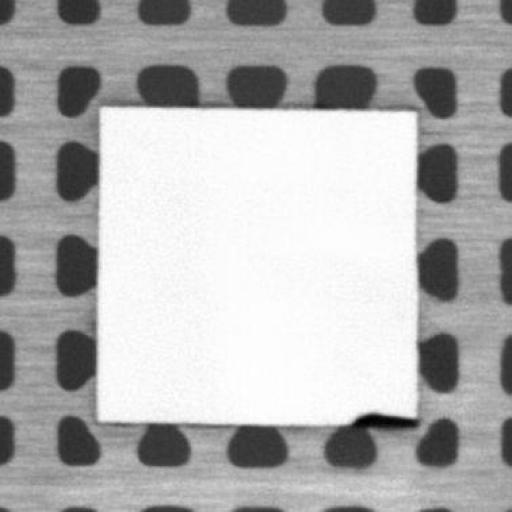DIE_BROKEN: (348, 408, 419, 428)
